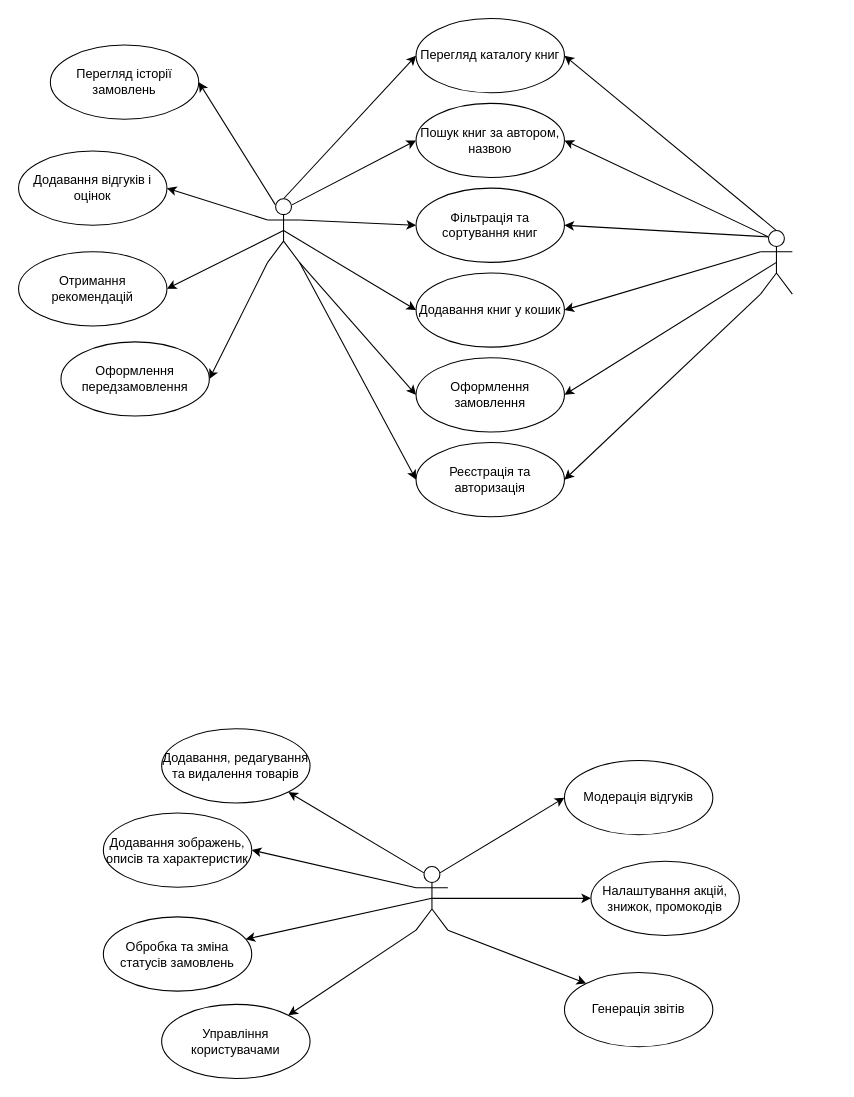
The diagram is 854 pixels wide and 1097 high, and some of its shapes have lost their labels. Each missing label, with the centre of its shape:
"Адміністратор" goes at [431,897].
"Користувач (Зареєстрований)" goes at [283,230].
"Користувач (Незареєстрований)" goes at [775,261].
